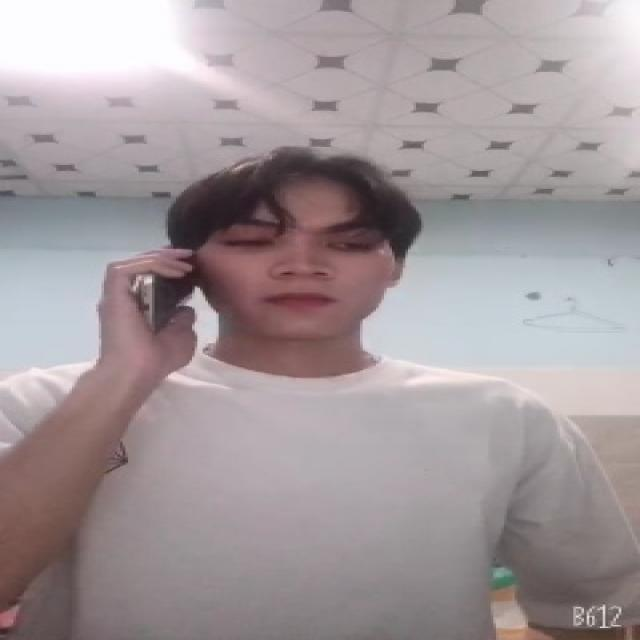Phone: (134, 241, 200, 335)
